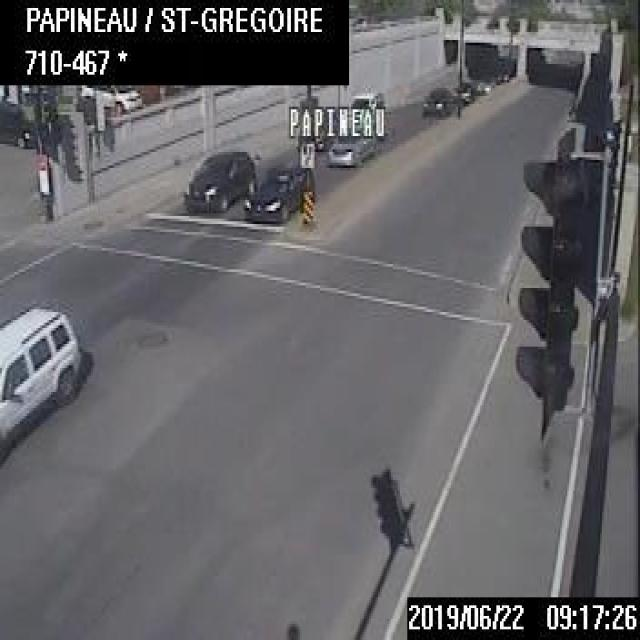vehicle: (0, 304, 82, 459), (186, 147, 257, 221), (240, 158, 315, 226), (78, 82, 143, 115), (345, 88, 389, 135), (326, 123, 374, 165), (0, 96, 38, 147), (422, 83, 454, 115), (450, 81, 473, 102)
